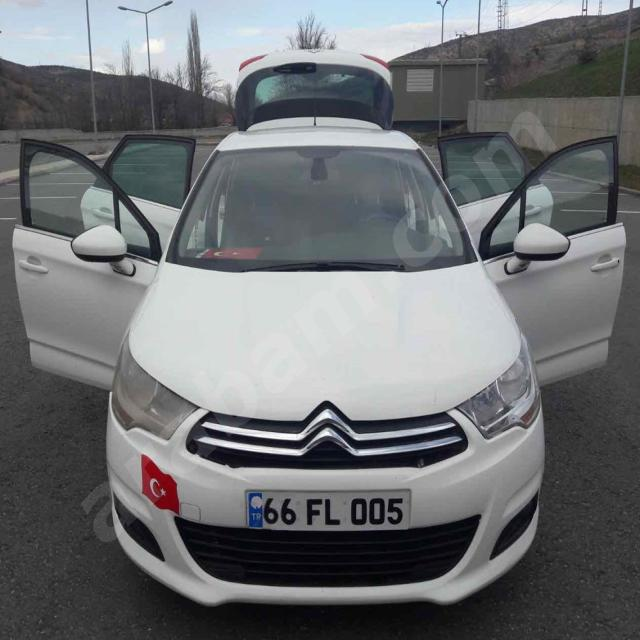license_plate: (246, 491, 410, 530)
